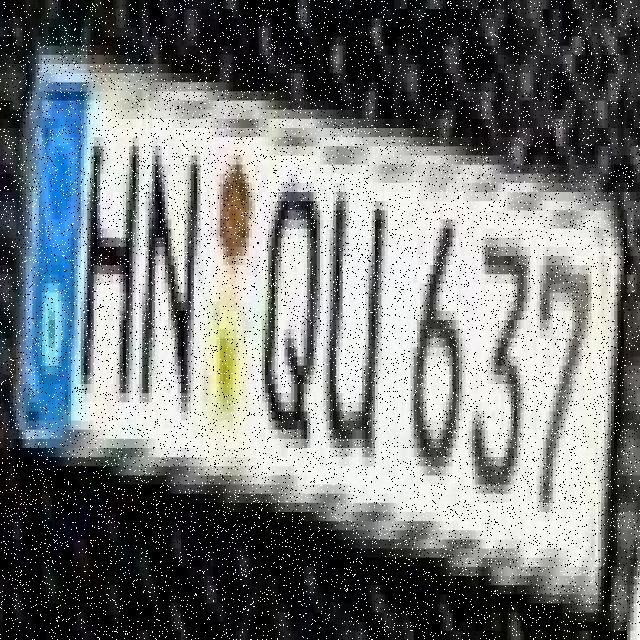licenseplate: (9, 27, 614, 606)
